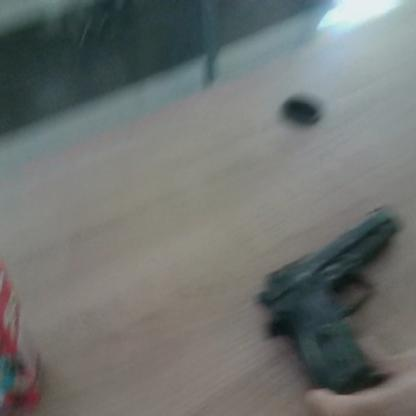handgun: (242, 195, 416, 416)
